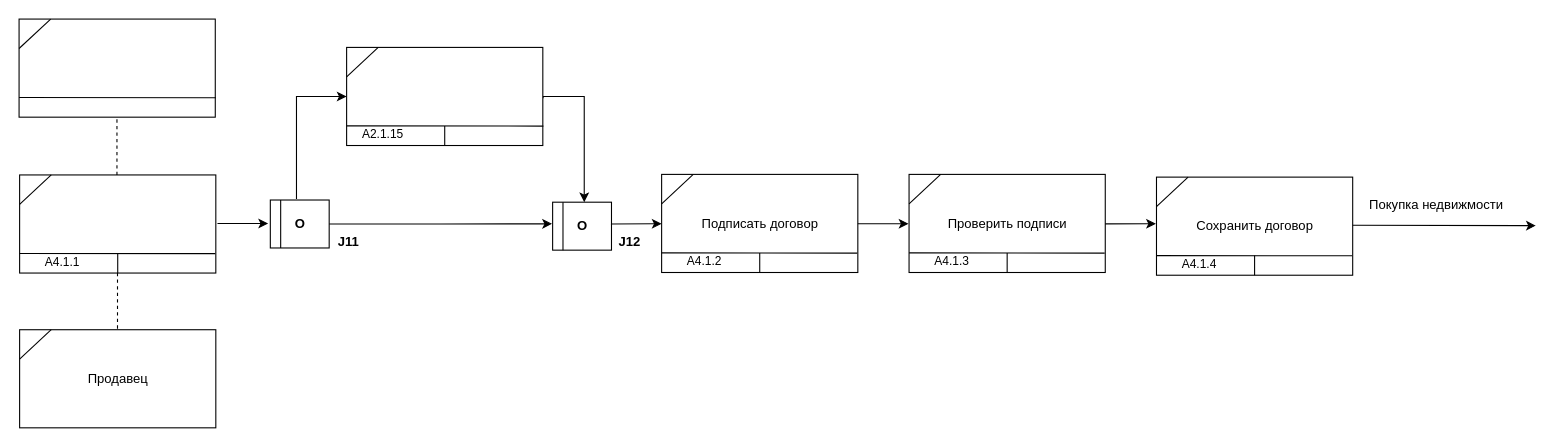
The diagram is 1564 pixels wide and 447 high, and some of its shapes have lost their labels. Each missing label, with the box of its shape:
Добавление специфических условий: (346, 46, 543, 146)
Пользователь: (18, 18, 215, 117)
Сформировать договора купли/продажи: (19, 174, 216, 273)
